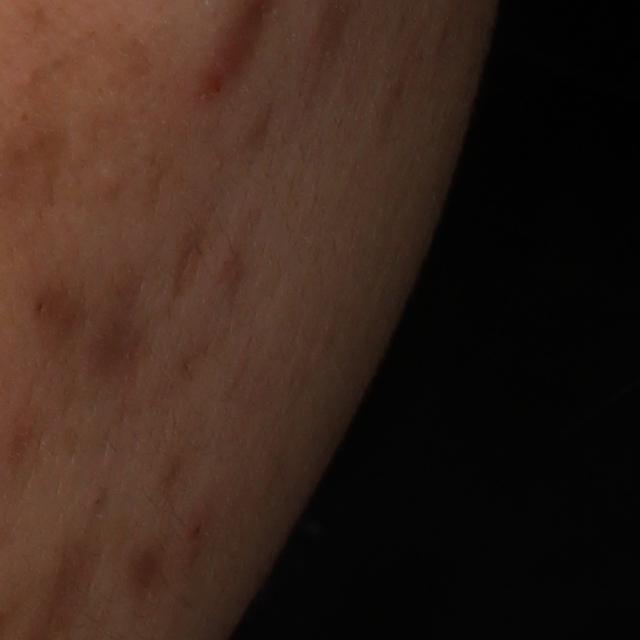atrophic_scar: (89, 319, 145, 380), (171, 226, 210, 301), (158, 448, 200, 513), (3, 147, 50, 205), (218, 243, 255, 306)
